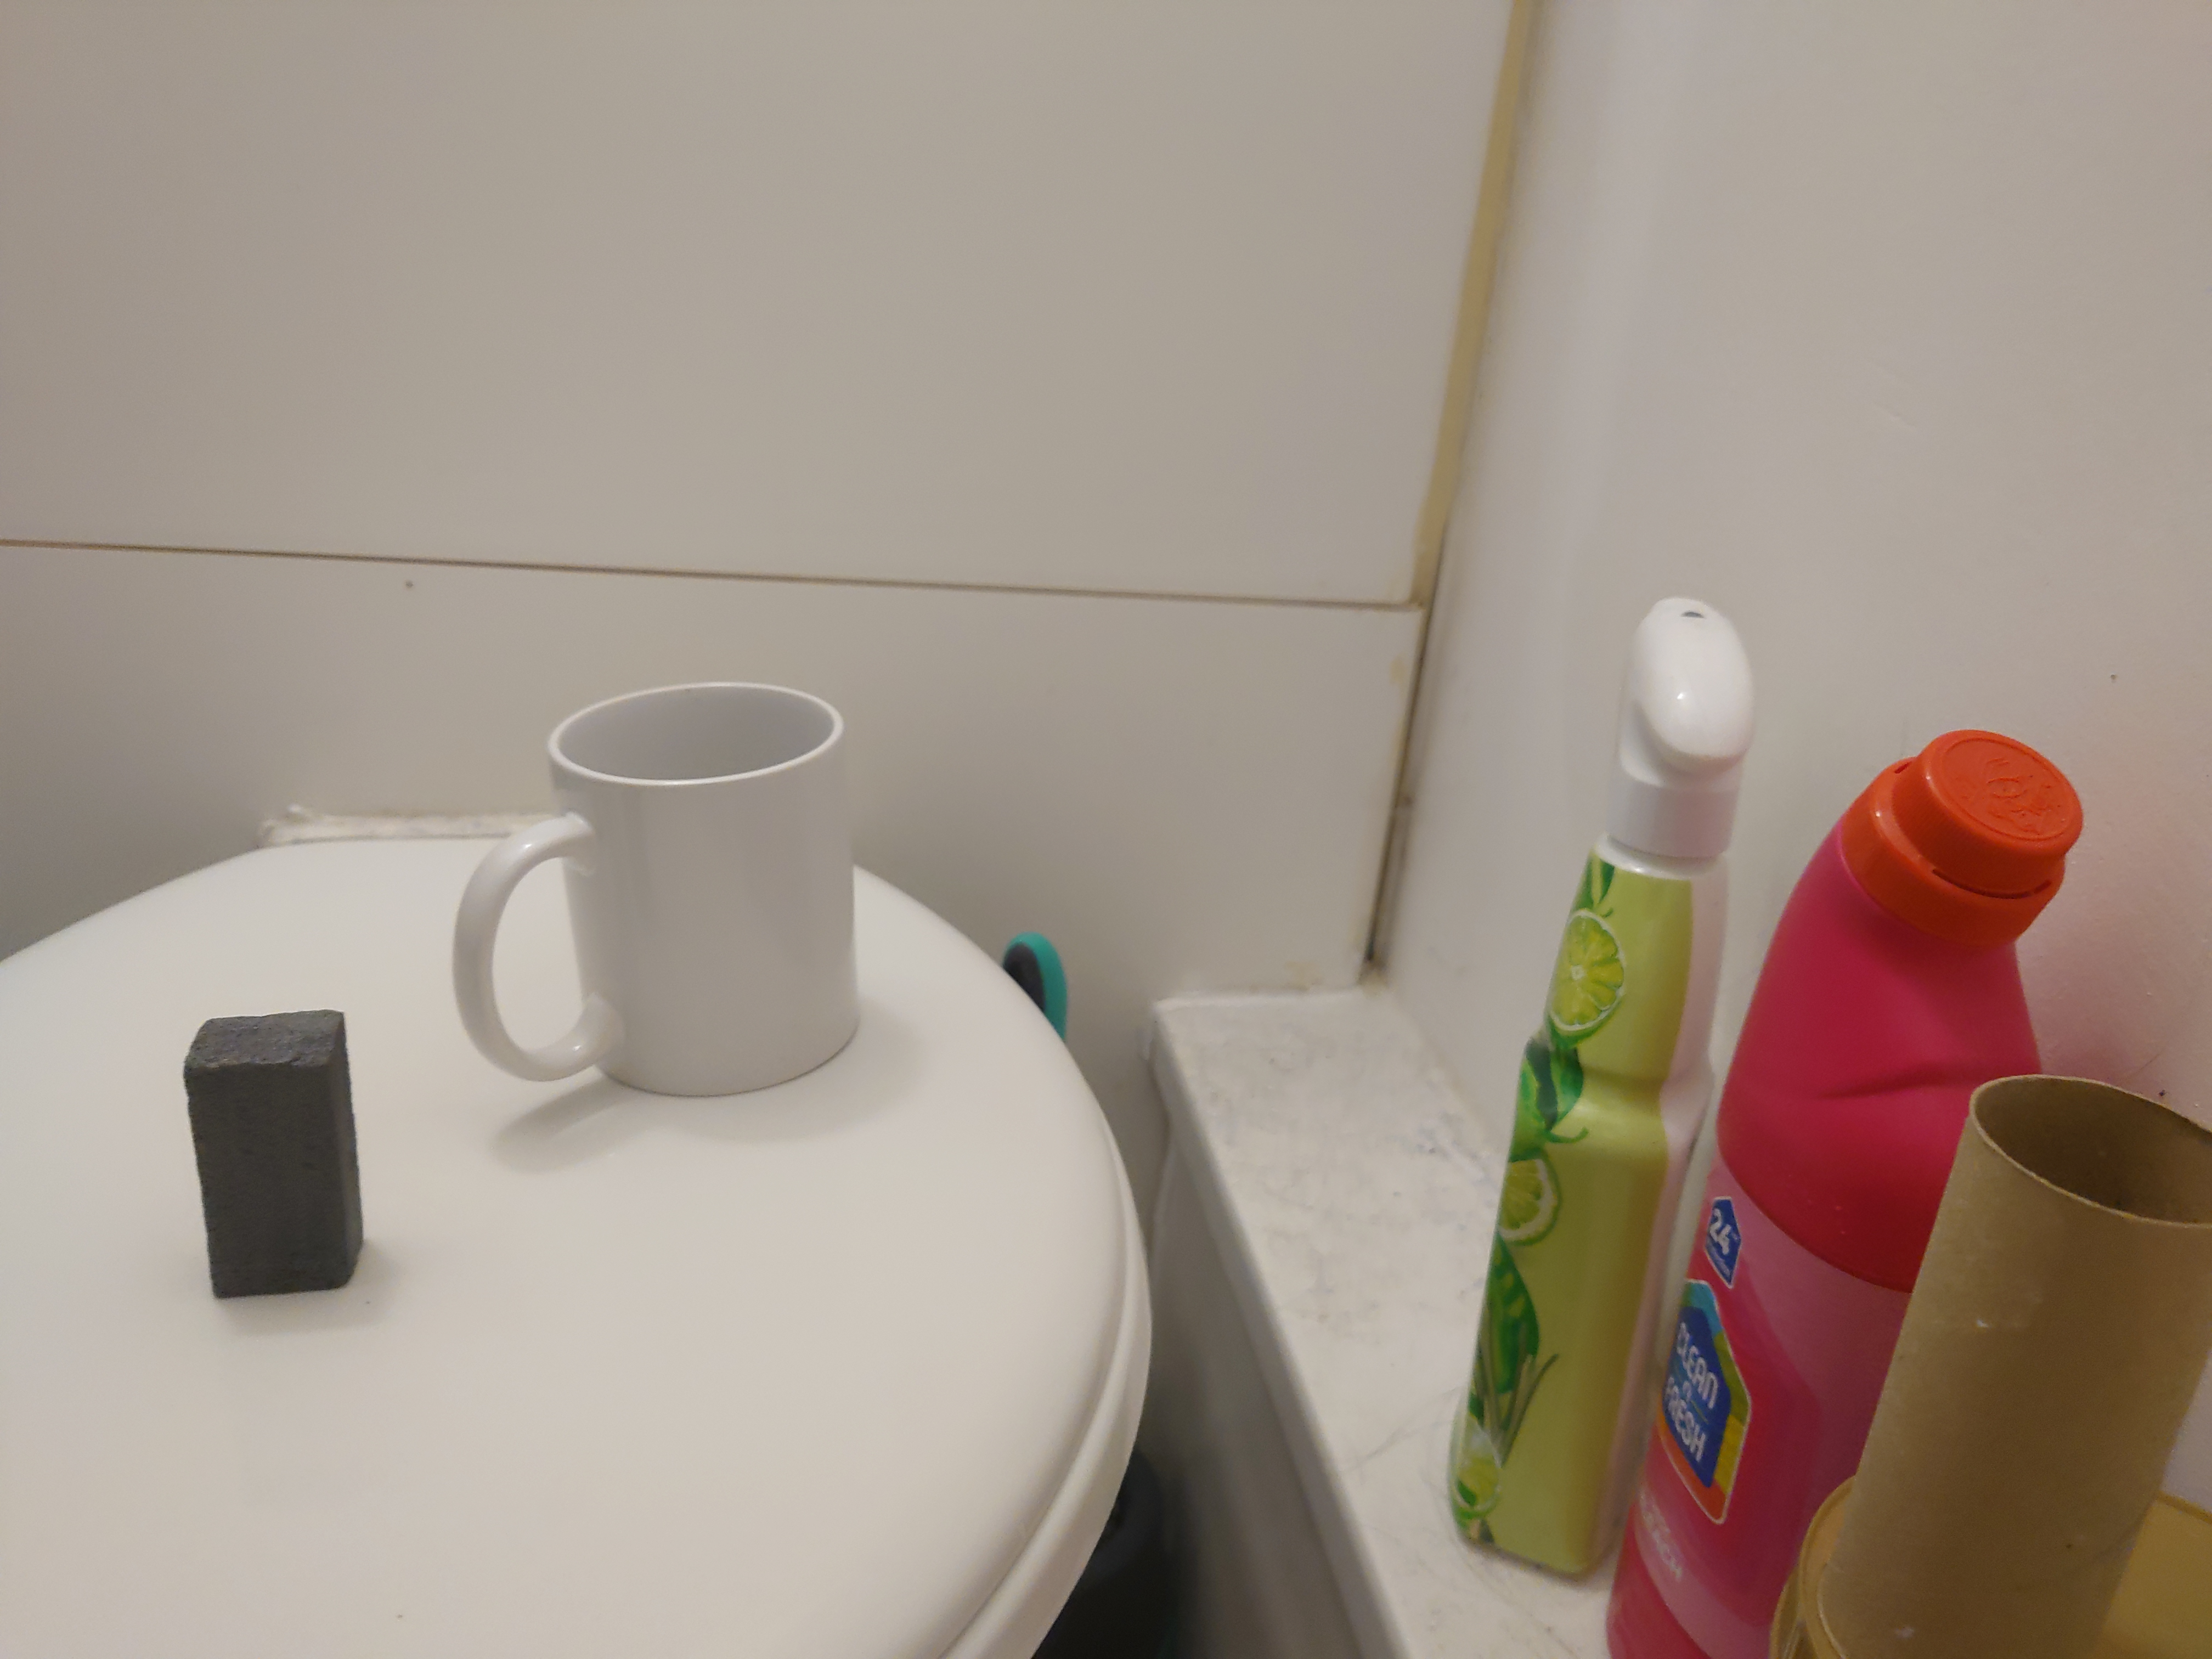cup: (449, 666, 860, 1107)
target: (181, 1004, 366, 1304)
